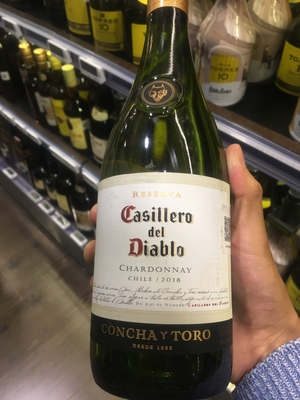casillero del diablo chardonnay: (85, 27, 241, 383)
